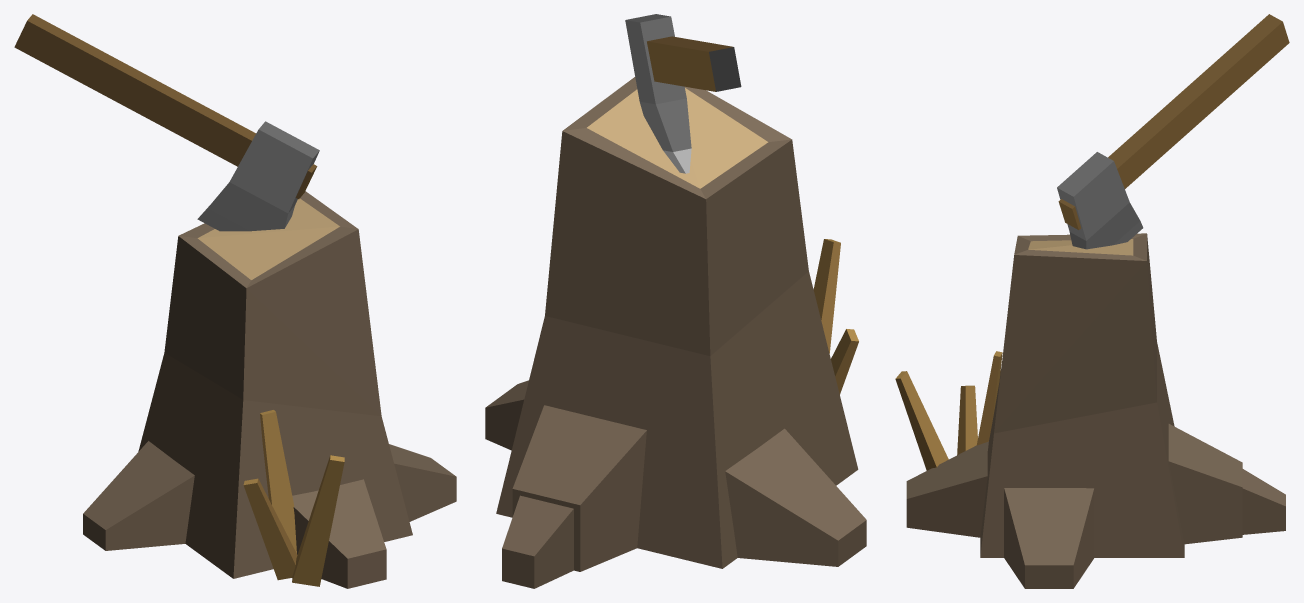
The model's file is SF_Prop_AxeStump_01.fbx.
3 renders of one model, left to right at view 1: azimuth 30°, elevation 25°; view 2: azimuth 150°, elevation 25°; view 3: azimuth 270°, elevation 25°, orthographic. The views are drawn at different scales.
Parts seen in each view (by area): view 1: SF_Prop_AxeStump_01; view 2: SF_Prop_AxeStump_01; view 3: SF_Prop_AxeStump_01.
Boxes of the visible parts, x1,y1,x2,y2 form: SF_Prop_AxeStump_01: (14,14,456,588); SF_Prop_AxeStump_01: (485,14,866,588); SF_Prop_AxeStump_01: (895,14,1289,588).
Bounding box in the file's own units: 1.33 × 1.9 × 1.53.
